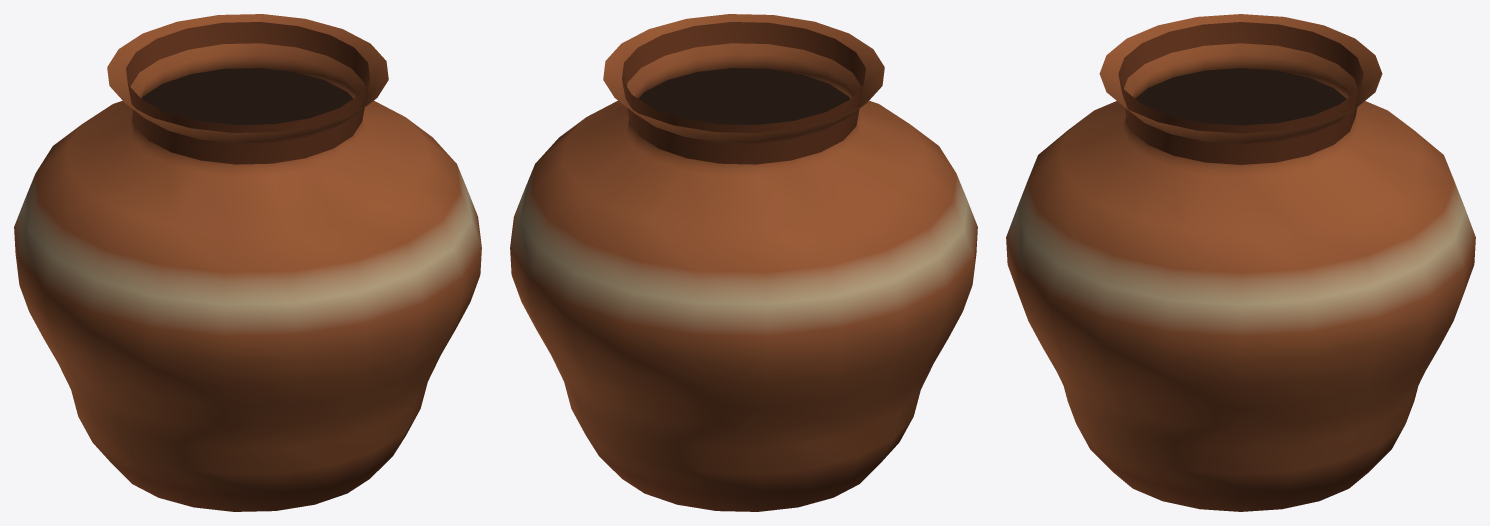
File: vase-b.glb
3 views of the same model, side by side, from view 1: azimuth 30°, elevation 25°; view 2: azimuth 150°, elevation 25°; view 3: azimuth 270°, elevation 25° (orthographic).
Visible parts, largest first — view 1: vase-b; view 2: vase-b; view 3: vase-b.
Boxes of the visible parts, bbox=[...] form: vase-b: bbox=[14, 14, 481, 511]; vase-b: bbox=[510, 14, 977, 511]; vase-b: bbox=[1006, 14, 1475, 511].
Bounding box in the file's own units: 0.2989 × 0.268 × 0.2989.
